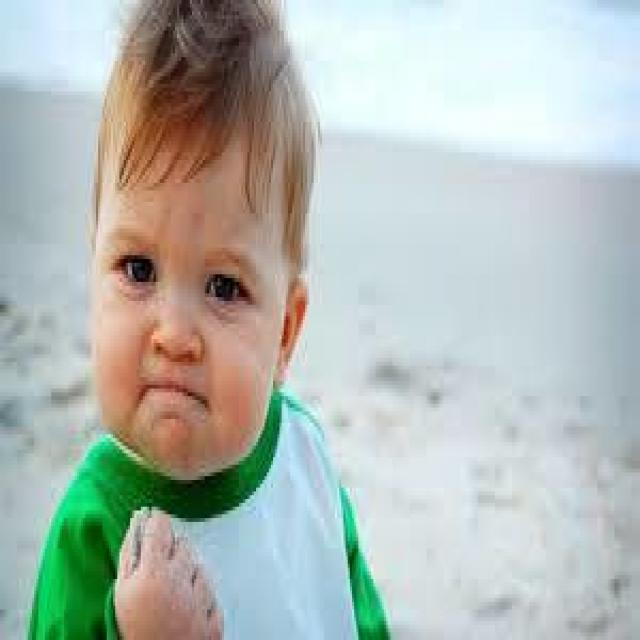person: (45, 0, 388, 636)
